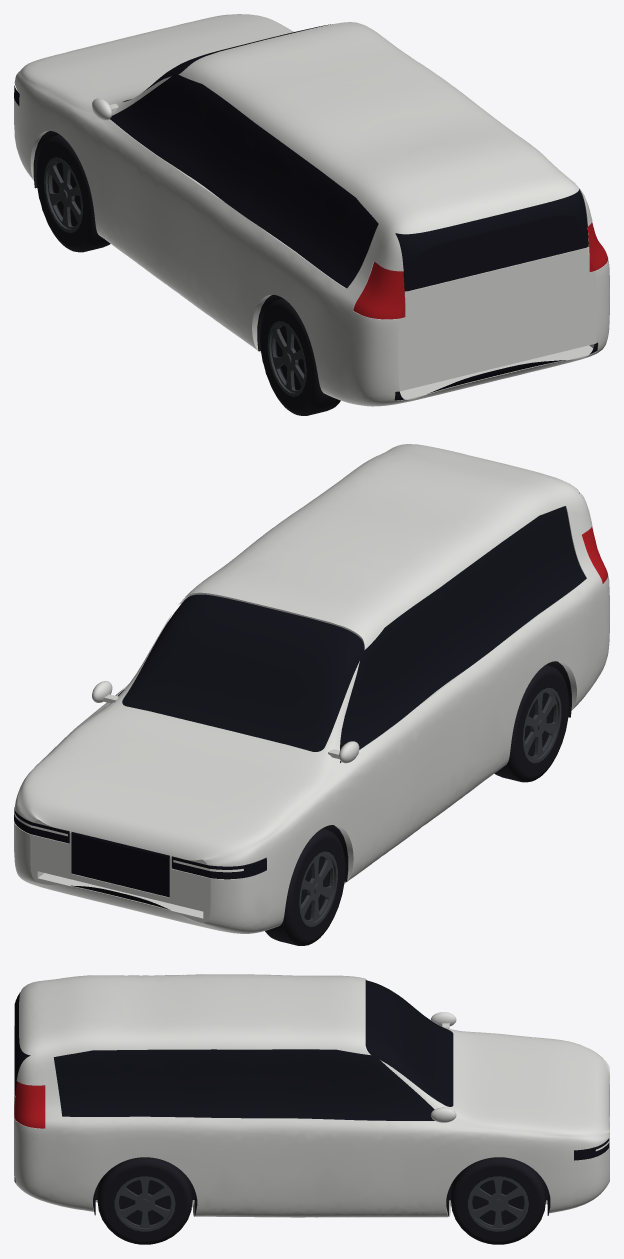
File: suv.glb
3 renders of one model, top to bottom at view 1: azimuth 30°, elevation 25°; view 2: azimuth 150°, elevation 25°; view 3: azimuth 270°, elevation 25°, orthographic. The views are drawn at different scales.
Visible parts, largest first — view 1: body, glass, tire, rim, light_rear; view 2: body, glass, tire, rim; view 3: body, glass, tire, rim, light_rear.
Boxes of the visible parts, <box> form: body: <box>14,14,609,406</box>; glass: <box>14,24,597,400</box>; tire: <box>33,131,340,415</box>; rim: <box>44,157,306,396</box>; light_rear: <box>353,222,607,319</box>; body: <box>14,444,609,933</box>; glass: <box>14,492,586,910</box>; tire: <box>265,661,571,945</box>; rim: <box>299,687,561,926</box>; body: <box>14,974,609,1217</box>; glass: <box>14,980,609,1182</box>; tire: <box>93,1157,550,1244</box>; rim: <box>114,1176,528,1231</box>; light_rear: <box>14,1081,45,1128</box>.
Bounding box in the file's own units: 1.96 × 1.78 × 4.89.
